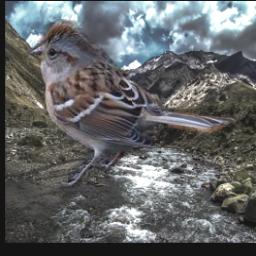Sparrow: (26, 20, 236, 191)
